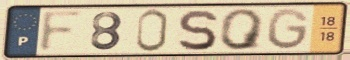0: (134, 7, 170, 54)
8: (90, 10, 125, 52)
F: (36, 8, 88, 54)
G: (266, 7, 311, 52)
Q: (219, 7, 267, 52)
S: (176, 8, 219, 52)
